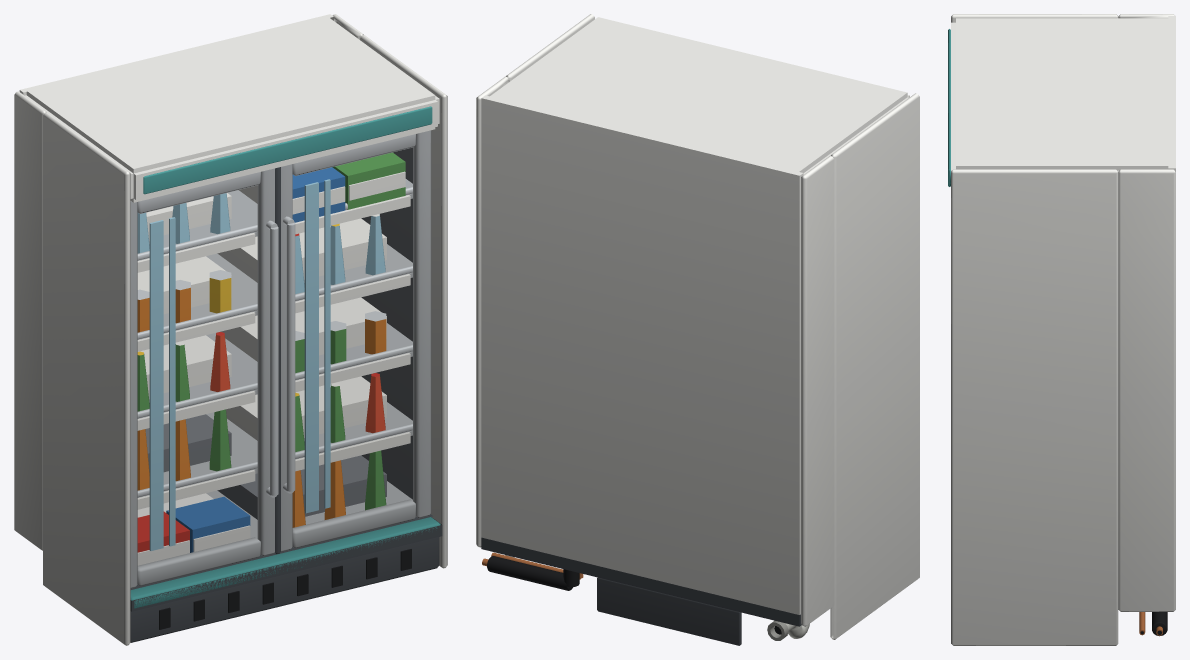
The model's file is CoolerDoors_2Door_15_Stocked.glb.
The picture shows the model from 3 angles, left to right: view 1: azimuth 30°, elevation 25°; view 2: azimuth 150°, elevation 25°; view 3: azimuth 270°, elevation 25°; orthographic projection. The views are drawn at different scales.
Parts seen in each view (by area): view 1: SM_CoolerDoors_2Door_15_Stocked; view 2: SM_CoolerDoors_2Door_15_Stocked; view 3: SM_CoolerDoors_2Door_15_Stocked.
Boxes of the visible parts, bbox=[...] form: SM_CoolerDoors_2Door_15_Stocked: bbox=[14, 14, 447, 645]; SM_CoolerDoors_2Door_15_Stocked: bbox=[476, 14, 919, 645]; SM_CoolerDoors_2Door_15_Stocked: bbox=[948, 14, 1175, 645].
Bounding box in the file's own units: 1.5 × 2.1 × 0.912.
1 material, 1 textured.
